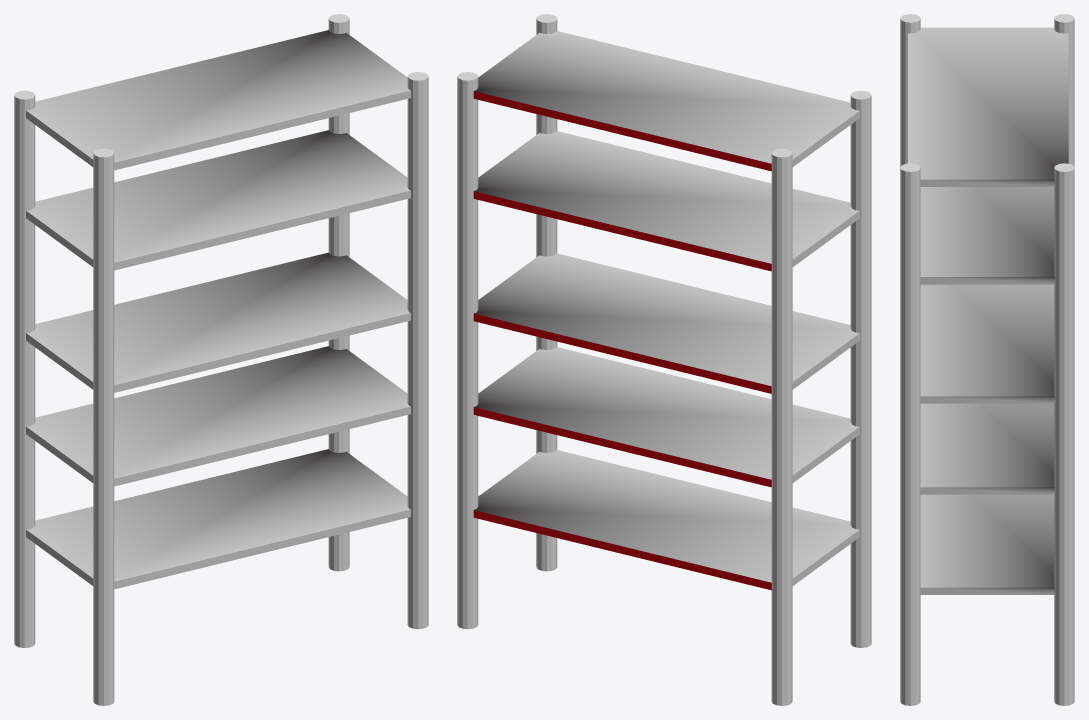
The model's file is shelf_a.fbx.
3 renders of one model, left to right at view 1: azimuth 30°, elevation 25°; view 2: azimuth 150°, elevation 25°; view 3: azimuth 270°, elevation 25°, orthographic. The views are drawn at different scales.
Parts seen in each view (by area): view 1: Cube.012, storage shelf, Cube.009, Cube.011, Cube.010, Cylinder.009, Cylinder.008, Cylinder.011, Cylinder.010; view 2: Cube.012, storage shelf, Cube.009, Cube.011, Cube.010, Cylinder.011, Cylinder.010, Cylinder.009, Cylinder.008; view 3: Cube.012, Cube.010, storage shelf, Cube.011, Cube.009, Cylinder.008, Cylinder.010, Cylinder.009, Cylinder.011.
Part boxes in pixels (x1=…): Cube.012: x1=26, y1=30, x2=410, y2=170; storage shelf: x1=26, y1=449, x2=410, y2=589; Cube.009: x1=26, y1=346, x2=410, y2=486; Cube.011: x1=26, y1=130, x2=410, y2=270; Cube.010: x1=26, y1=252, x2=410, y2=392; Cylinder.009: x1=93, y1=148, x2=114, y2=705; Cylinder.008: x1=407, y1=72, x2=428, y2=629; Cylinder.011: x1=14, y1=90, x2=35, y2=647; Cylinder.010: x1=328, y1=14, x2=349, y2=571; Cube.012: x1=473, y1=31, x2=859, y2=171; storage shelf: x1=473, y1=450, x2=859, y2=590; Cube.009: x1=473, y1=347, x2=859, y2=487; Cube.011: x1=473, y1=131, x2=859, y2=271; Cube.010: x1=473, y1=253, x2=859, y2=393; Cylinder.011: x1=771, y1=148, x2=792, y2=705; Cylinder.010: x1=457, y1=72, x2=478, y2=629; Cylinder.009: x1=850, y1=90, x2=871, y2=647; Cylinder.008: x1=536, y1=14, x2=557, y2=571; Cube.012: x1=908, y1=27, x2=1068, y2=186; Cube.010: x1=920, y1=284, x2=1054, y2=403; storage shelf: x1=920, y1=494, x2=1054, y2=594; Cube.011: x1=920, y1=187, x2=1054, y2=284; Cube.009: x1=920, y1=403, x2=1054, y2=494; Cylinder.008: x1=900, y1=163, x2=920, y2=705; Cylinder.010: x1=1054, y1=163, x2=1074, y2=705; Cylinder.009: x1=900, y1=14, x2=920, y2=166; Cylinder.011: x1=1054, y1=14, x2=1074, y2=166.
Size of the model in its own units: 188 by 87.69 by 296.
